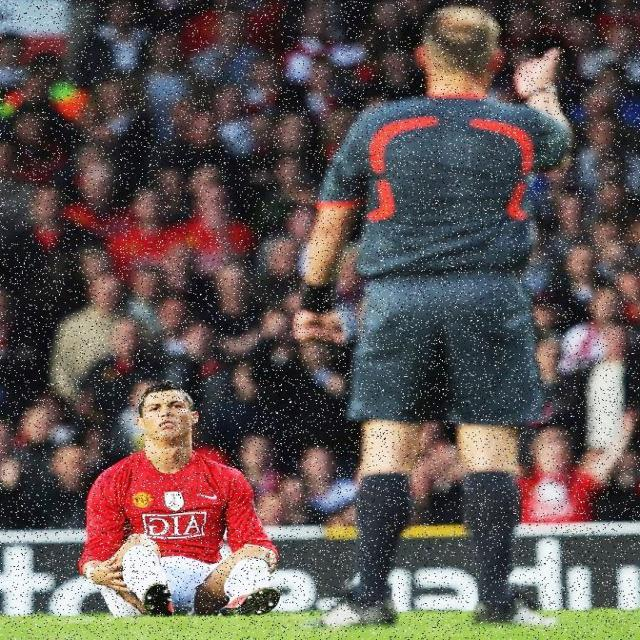fall: (80, 380, 284, 612)
